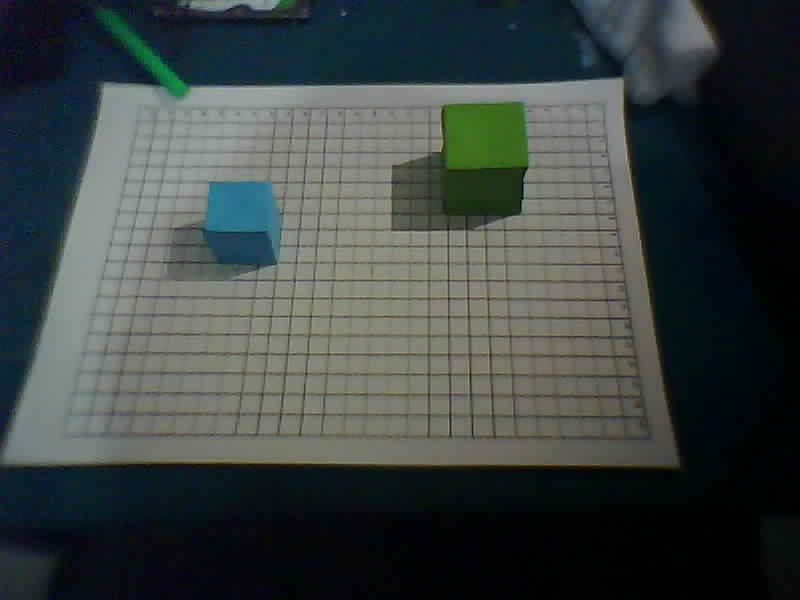blue(3x3x3): (183, 167, 305, 280)
green(4x4x4): (415, 88, 561, 236)
